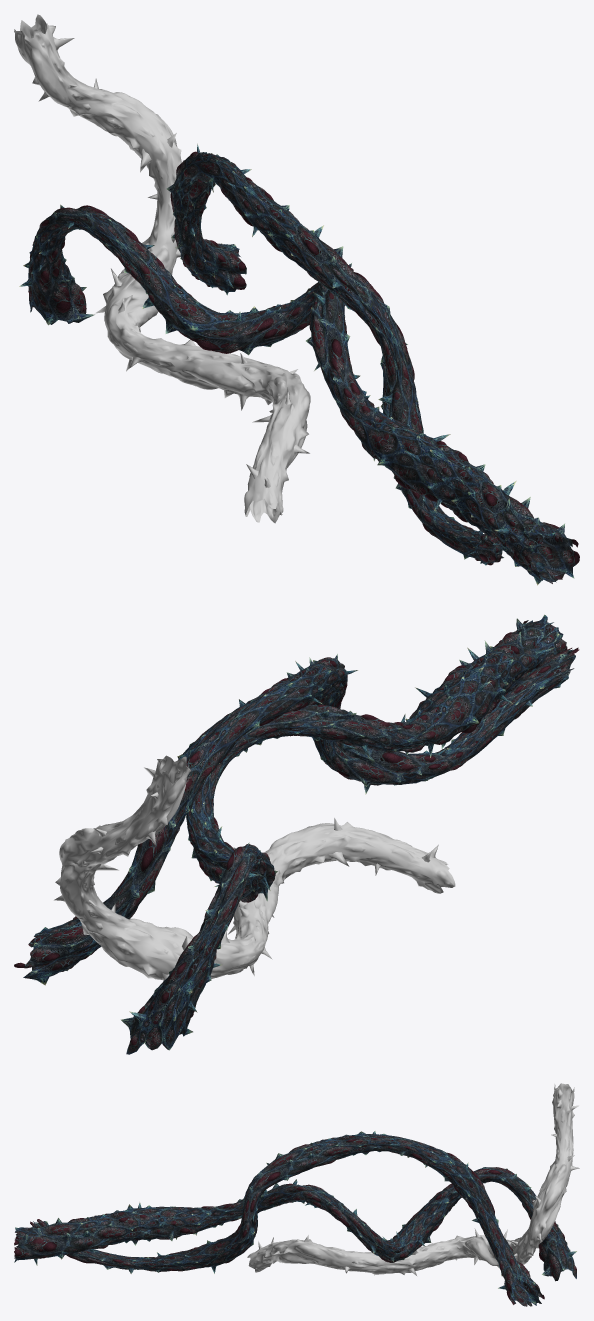
File: L03_Heltree16.fbx
3 views of the same model, one above another, from view 1: azimuth 30°, elevation 25°; view 2: azimuth 150°, elevation 25°; view 3: azimuth 270°, elevation 25° (orthographic). The views are drawn at different scales.
Visible parts, largest first — view 1: LODGroup_1_MainMesh_1_SubMesh_2, LODGroup_1_MainMesh_1_SubMesh_1, LODGroup_1_MainMesh_1_SubMesh_3; view 2: LODGroup_1_MainMesh_1_SubMesh_3, LODGroup_1_MainMesh_1_SubMesh_1, LODGroup_1_MainMesh_1_SubMesh_2; view 3: LODGroup_1_MainMesh_1_SubMesh_2, LODGroup_1_MainMesh_1_SubMesh_3, LODGroup_1_MainMesh_1_SubMesh_1.
Part boxes in pixels (box(x1,y1,x2,y2)): LODGroup_1_MainMesh_1_SubMesh_2: box(19, 143, 579, 569); LODGroup_1_MainMesh_1_SubMesh_1: box(14, 14, 310, 523); LODGroup_1_MainMesh_1_SubMesh_3: box(23, 153, 574, 585); LODGroup_1_MainMesh_1_SubMesh_3: box(14, 636, 568, 1054); LODGroup_1_MainMesh_1_SubMesh_1: box(54, 755, 455, 980); LODGroup_1_MainMesh_1_SubMesh_2: box(28, 614, 579, 1038); LODGroup_1_MainMesh_1_SubMesh_2: box(14, 1131, 576, 1304); LODGroup_1_MainMesh_1_SubMesh_3: box(14, 1131, 576, 1306); LODGroup_1_MainMesh_1_SubMesh_1: box(247, 1083, 579, 1275).
Size of the model in its own units: 657 by 920 by 2457.
